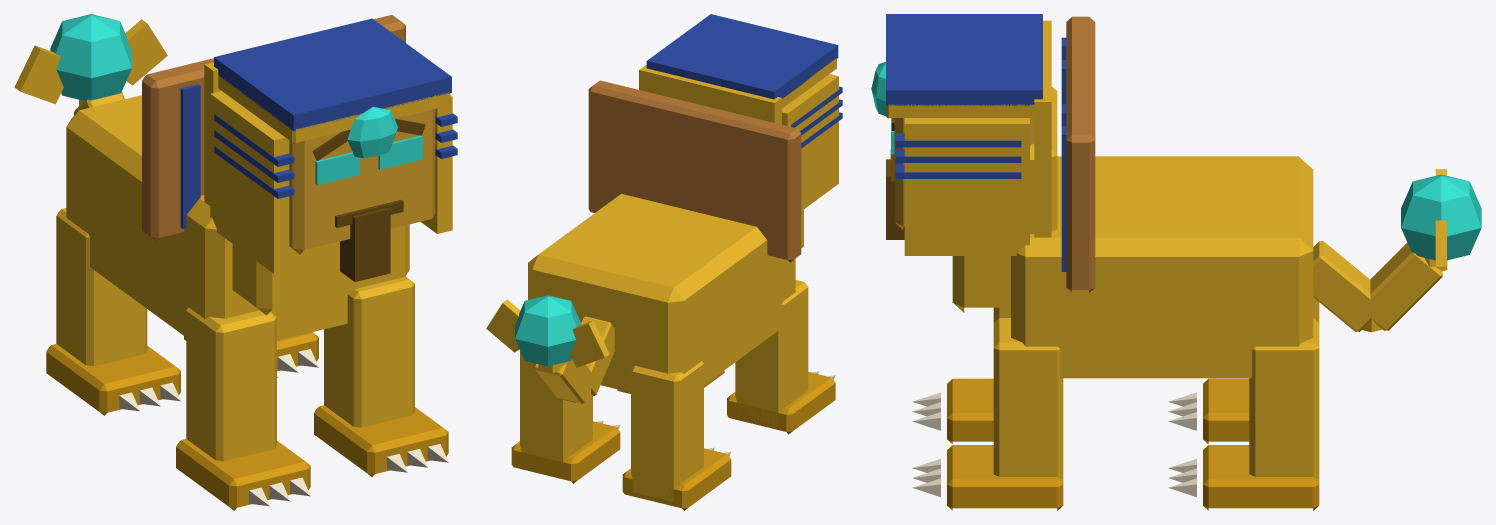
File: r5_boss_golden_sphinx.glb
3 renders of one model, left to right at view 1: azimuth 30°, elevation 25°; view 2: azimuth 150°, elevation 25°; view 3: azimuth 270°, elevation 25°, orthographic. The views are drawn at different scales.
Visible parts, largest first — view 1: r5_boss_golden_sphinx_mesh; view 2: r5_boss_golden_sphinx_mesh; view 3: r5_boss_golden_sphinx_mesh.
Part boxes in pixels (x1=…): r5_boss_golden_sphinx_mesh: x1=14, y1=14, x2=457, y2=510; r5_boss_golden_sphinx_mesh: x1=486, y1=14, x2=842, y2=510; r5_boss_golden_sphinx_mesh: x1=871, y1=14, x2=1481, y2=510.
Size of the model in its own units: 5.16 by 8 by 10.83.
Materials: 1 (1 with a texture image).
